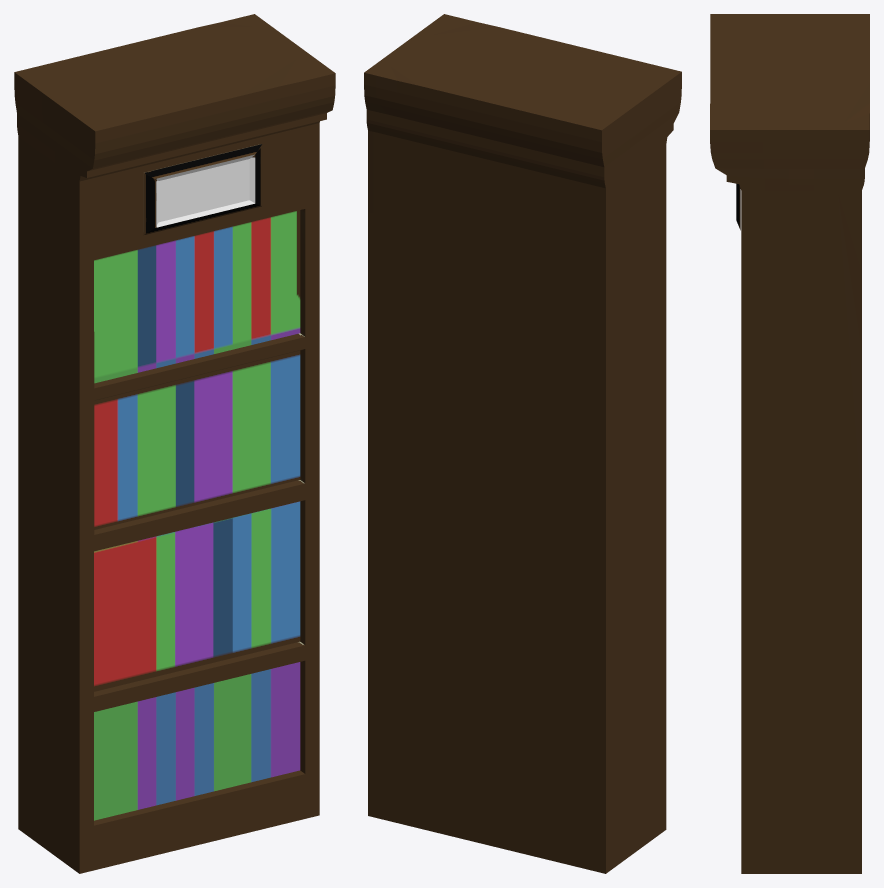
File: bookshelf.fbx
3 views of the same model, side by side, from view 1: azimuth 30°, elevation 25°; view 2: azimuth 150°, elevation 25°; view 3: azimuth 270°, elevation 25° (orthographic).
Visible parts, largest first — view 1: Bookshelve; view 2: Bookshelve; view 3: Bookshelve.
Part boxes in pixels (box(x1,y1,x2,y2)): Bookshelve: box(14, 14, 335, 873); Bookshelve: box(364, 14, 681, 873); Bookshelve: box(710, 14, 869, 873).
Bounding box in the file's own units: 1 × 3 × 0.5843.
Materials: 1 (1 with a texture image).
